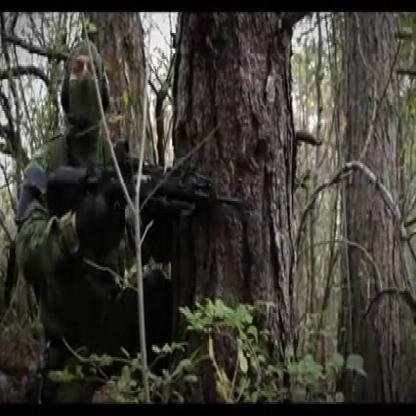Gun: (39, 120, 252, 250)
